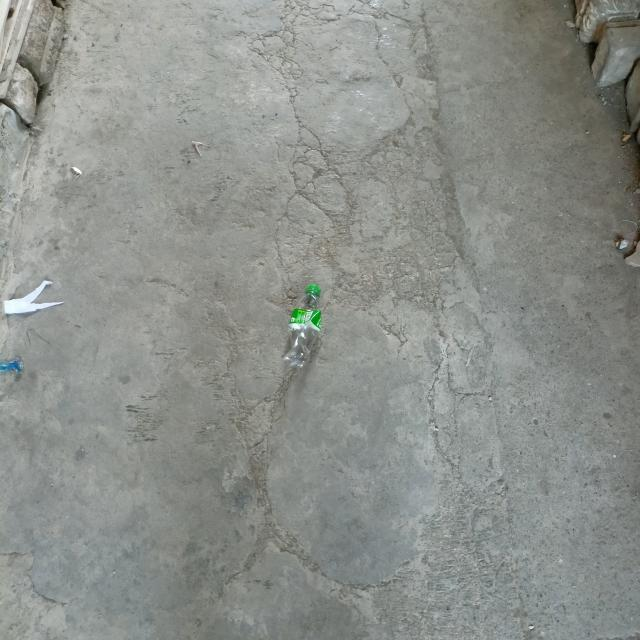Bottle: (282, 284, 322, 380)
